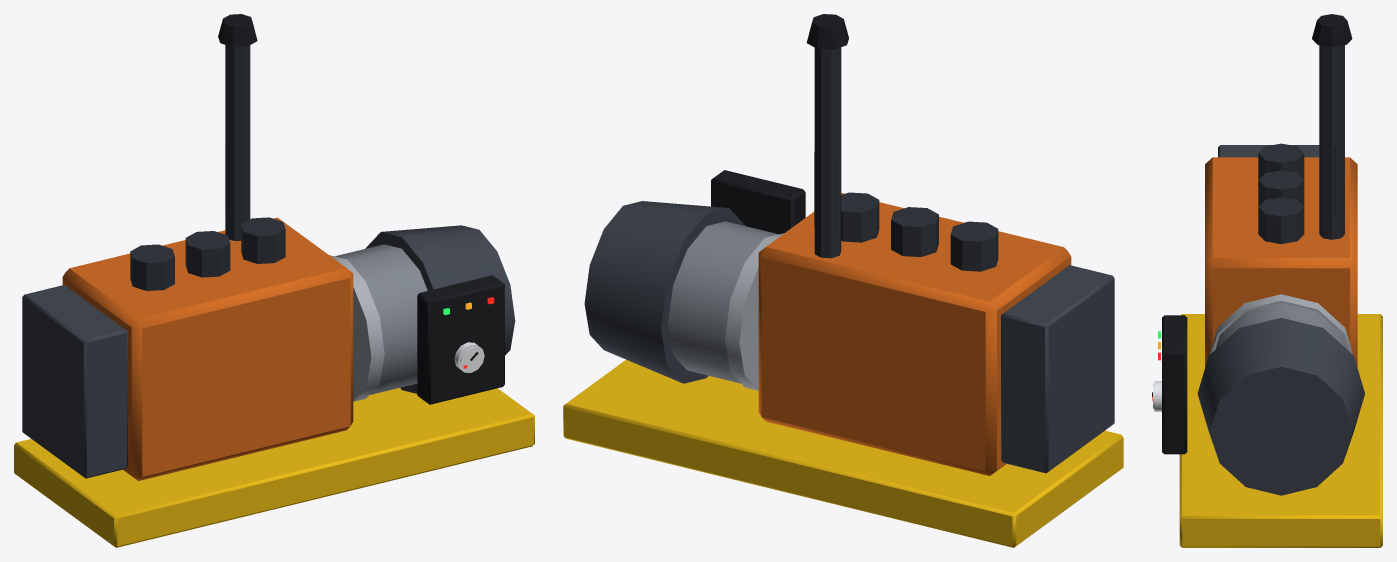
The model's file is generator_diesel_genset.glb.
The picture shows the model from 3 angles, left to right: view 1: azimuth 30°, elevation 25°; view 2: azimuth 150°, elevation 25°; view 3: azimuth 270°, elevation 25°; orthographic projection. The views are drawn at different scales.
Visible parts, largest first — view 1: generator_diesel_genset; view 2: generator_diesel_genset; view 3: generator_diesel_genset.
Part boxes in pixels (x1=…): generator_diesel_genset: x1=14, y1=14, x2=534, y2=547; generator_diesel_genset: x1=563, y1=14, x2=1123, y2=547; generator_diesel_genset: x1=1152, y1=14, x2=1382, y2=547.
Bounding box in the file's own units: 1.95 × 1.83 × 0.909.
